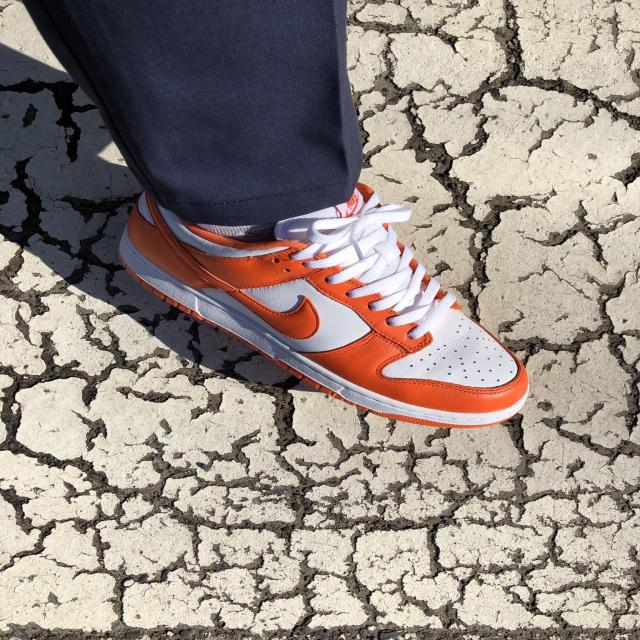shoe: (115, 174, 535, 432)
